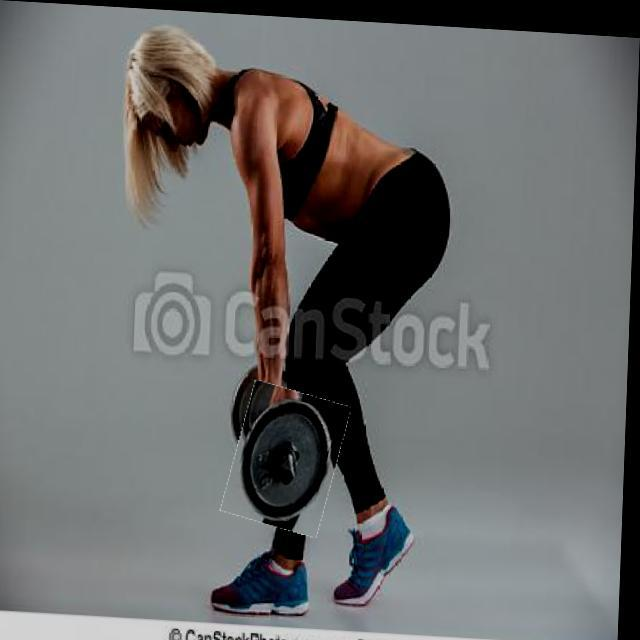barbell: (231, 381, 348, 531)
